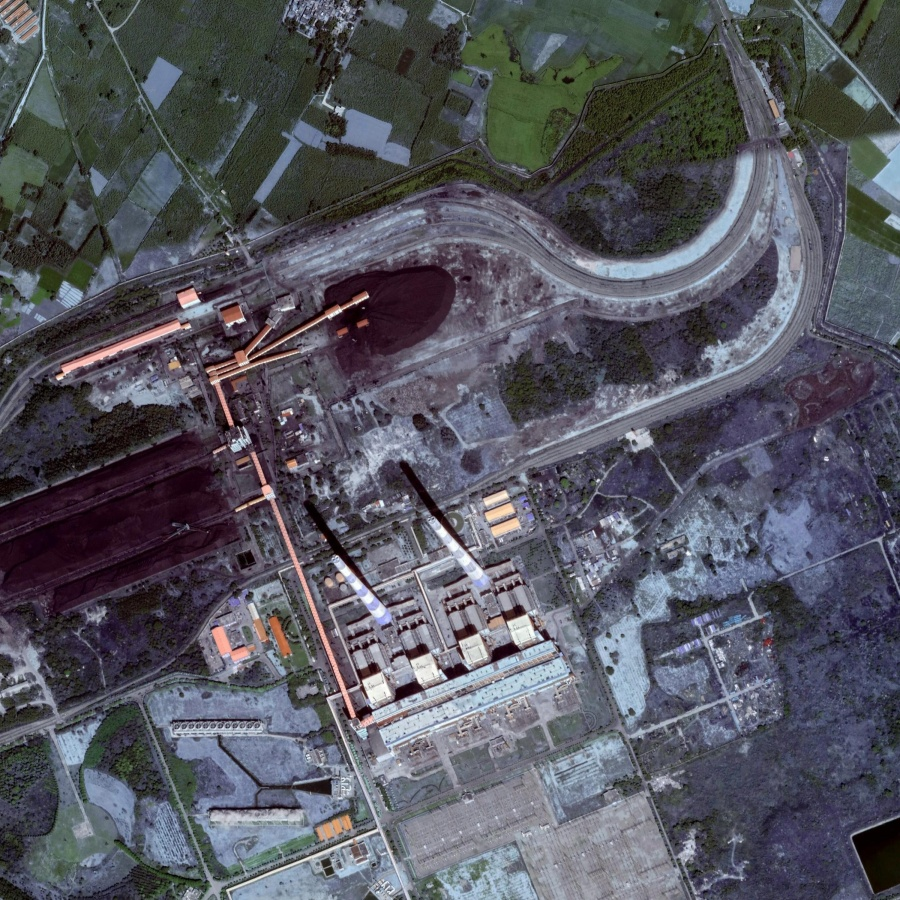PowerPlant: (293, 453, 530, 658)
